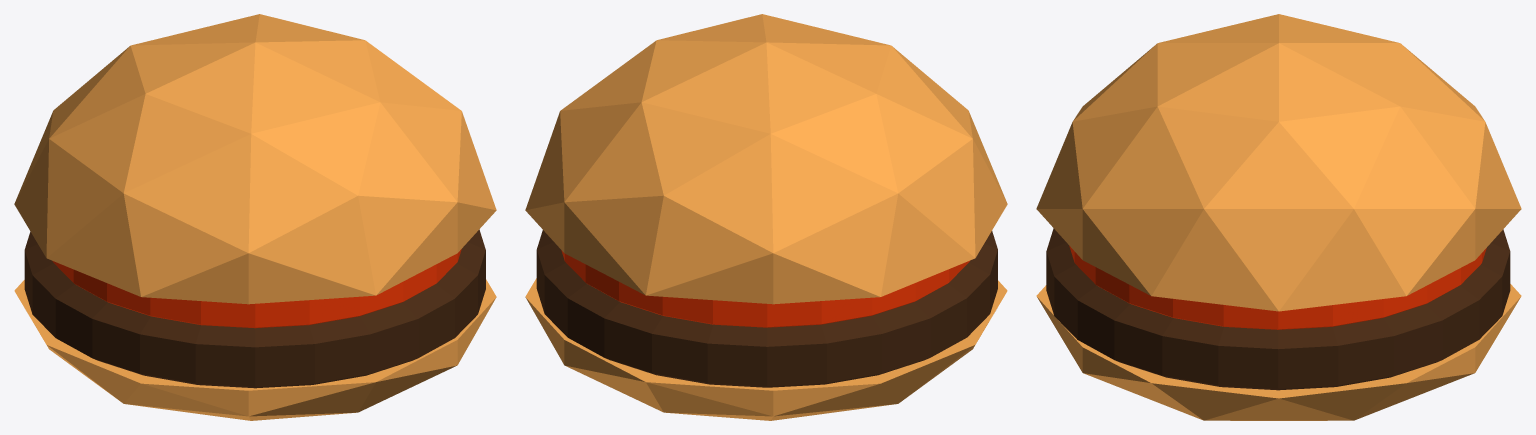
Rendered from Burger 2.obj.
3 views of the same model, side by side, from view 1: azimuth 30°, elevation 25°; view 2: azimuth 150°, elevation 25°; view 3: azimuth 270°, elevation 25° (orthographic).
Parts seen in each view (by area): view 1: Burger_2; view 2: Burger_2; view 3: Burger_2.
Boxes of the visible parts, x1,y1,x2,y2 form: Burger_2: (14,14,496,420); Burger_2: (525,14,1007,420); Burger_2: (1036,14,1521,420).
Size of the model in its own units: 0.9025 by 0.6902 by 0.9025.
